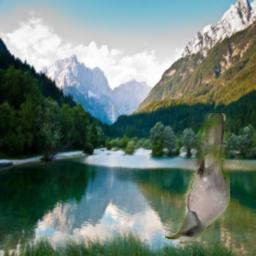Cuckoo: (165, 113, 230, 241)
